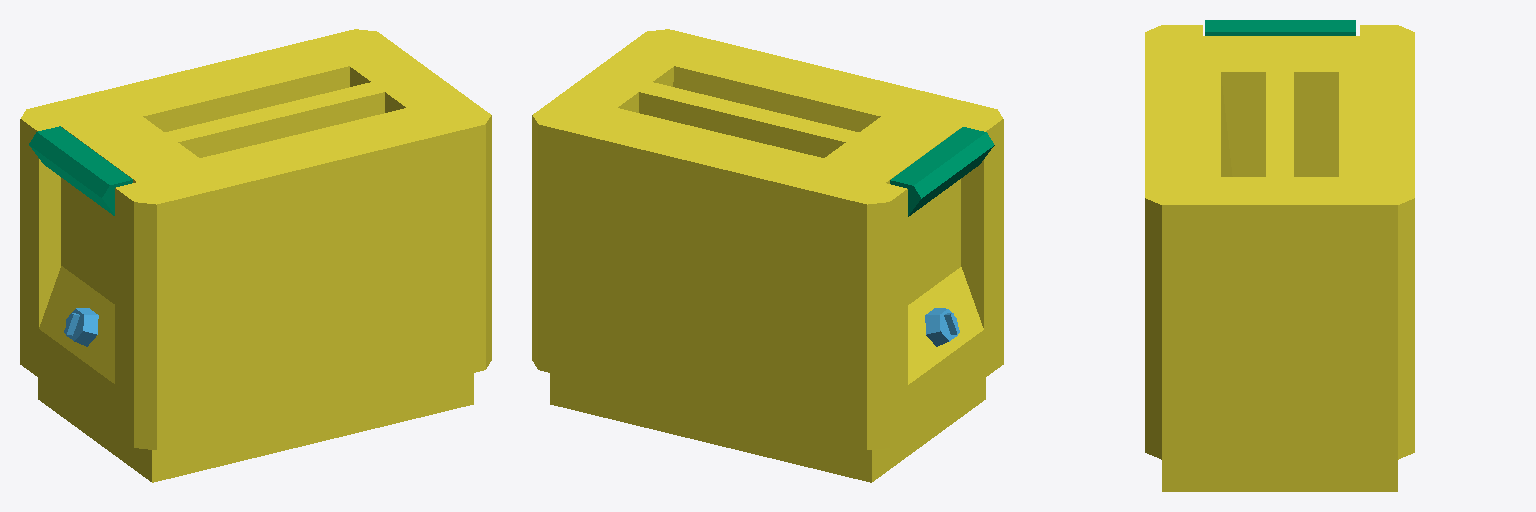
robot.urdf — partnet_5693b4c7ce703bf35d1b6bffd4f70f9a:
<?xml version="1.0" ?>
<robot name="partnet_5693b4c7ce703bf35d1b6bffd4f70f9a">
	<link name="base"/>
	<link name="link_0">
		<visual name="button-1">
			<origin xyz="-0.007537775917565718 0.3894238137130928 -0.1591458452466028"/>
			<geometry>
				<mesh filename="textured_objs/original-3.obj"/>
			</geometry>
		</visual>
		<collision>
			<origin xyz="-0.007537775917565718 0.3894238137130928 -0.1591458452466028"/>
			<geometry>
				<mesh filename="textured_objs/original-3.obj"/>
			</geometry>
		</collision>
	</link>
	<joint name="joint_0" type="fixed">
		<origin xyz="0.007537775917565718 -0.3894238137130928 0.1591458452466028"/>
		<axis xyz="0 0.3782990866343233 0.9256834237749084"/>
		<child link="link_0"/>
		<parent link="link_2"/>
	</joint>
	<link name="link_1">
		<visual name="slider-2">
			<origin xyz="0 0 0"/>
			<geometry>
				<mesh filename="textured_objs/original-1.obj"/>
			</geometry>
		</visual>
		<collision>
			<origin xyz="0 0 0"/>
			<geometry>
				<mesh filename="textured_objs/original-1.obj"/>
			</geometry>
		</collision>
	</link>
	<joint name="joint_1" type="fixed">
		<origin xyz="0 0 0"/>
		<child link="link_1"/>
		<parent link="link_2"/>
	</joint>
	<link name="link_2">
		<visual name="base_body-3">
			<origin xyz="0 0 0"/>
			<geometry>
				<mesh filename="textured_objs/original-4.obj"/>
			</geometry>
		</visual>
		<visual name="base_body-3">
			<origin xyz="0 0 0"/>
			<geometry>
				<mesh filename="textured_objs/original-5.obj"/>
			</geometry>
		</visual>
		<visual name="base_body-3">
			<origin xyz="0 0 0"/>
			<geometry>
				<mesh filename="textured_objs/original-6.obj"/>
			</geometry>
		</visual>
		<visual name="base_body-3">
			<origin xyz="0 0 0"/>
			<geometry>
				<mesh filename="textured_objs/original-7.obj"/>
			</geometry>
		</visual>
		<collision>
			<origin xyz="0 0 0"/>
			<geometry>
				<mesh filename="textured_objs/original-4.obj"/>
			</geometry>
		</collision>
		<collision>
			<origin xyz="0 0 0"/>
			<geometry>
				<mesh filename="textured_objs/original-5.obj"/>
			</geometry>
		</collision>
		<collision>
			<origin xyz="0 0 0"/>
			<geometry>
				<mesh filename="textured_objs/original-6.obj"/>
			</geometry>
		</collision>
		<collision>
			<origin xyz="0 0 0"/>
			<geometry>
				<mesh filename="textured_objs/original-7.obj"/>
			</geometry>
		</collision>
	</link>
	<joint name="joint_2" type="prismatic">
		<origin rpy="1.570796326794897 0 -1.570796326794897" xyz="0 0 0"/>
		<axis xyz="0 0 -1"/>
		<child link="link_2"/>
		<parent link="base"/>
		<limit lower="0" upper="0.3"/>
	</joint>
</robot>

--- Facts derived from the render (not from the file) ---
The picture shows the robot from 3 angles, left to right: view 1: azimuth 30°, elevation 25°; view 2: azimuth 150°, elevation 25°; view 3: azimuth 270°, elevation 25°; orthographic projection.
Model partnet_5693b4c7ce703bf35d1b6bffd4f70f9a with 4 links and 3 joints (1 prismatic, 2 fixed), rooted at base, posed every joint at zero.
Links seen in each view (by area): view 1: link_2, link_1, link_0; view 2: link_2, link_1, link_0; view 3: link_2, link_1.
Boxes of the visible links, bbox=[...] form: link_2: bbox=[20, 29, 491, 482]; link_1: bbox=[29, 126, 132, 215]; link_0: bbox=[64, 308, 98, 346]; link_2: bbox=[532, 29, 1003, 482]; link_1: bbox=[890, 127, 994, 216]; link_0: bbox=[925, 308, 959, 346]; link_2: bbox=[1145, 25, 1414, 491]; link_1: bbox=[1205, 20, 1355, 35].
Size in the robot's own frame: 1.55 by 0.9465 by 1.15 metres.
6 mesh visuals loaded from 6 distinct referenced files (6 OBJ).
